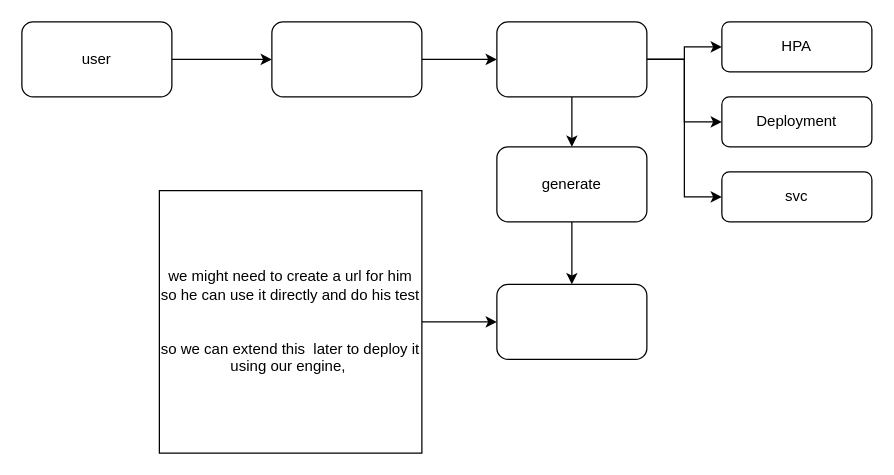
The diagram is 894 pixels wide and 475 high, and some of its shapes have lost their labels. The shapes that lost their labels are listed below. From the top down, each one's centre as x and y in pixels, then its label:
(x=346, y=59): want to deploy to k8s
(x=571, y=59): choose what he need to deploy
(x=571, y=321): give him command to run it
